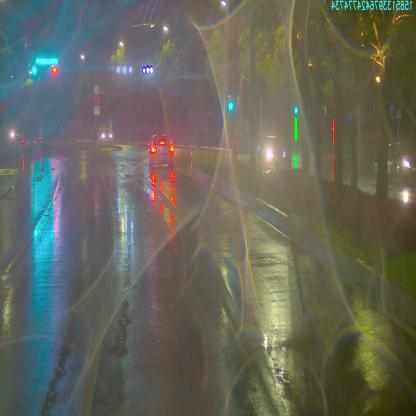traffic-light: (37, 56, 59, 65), (52, 66, 59, 74), (32, 64, 38, 73)
